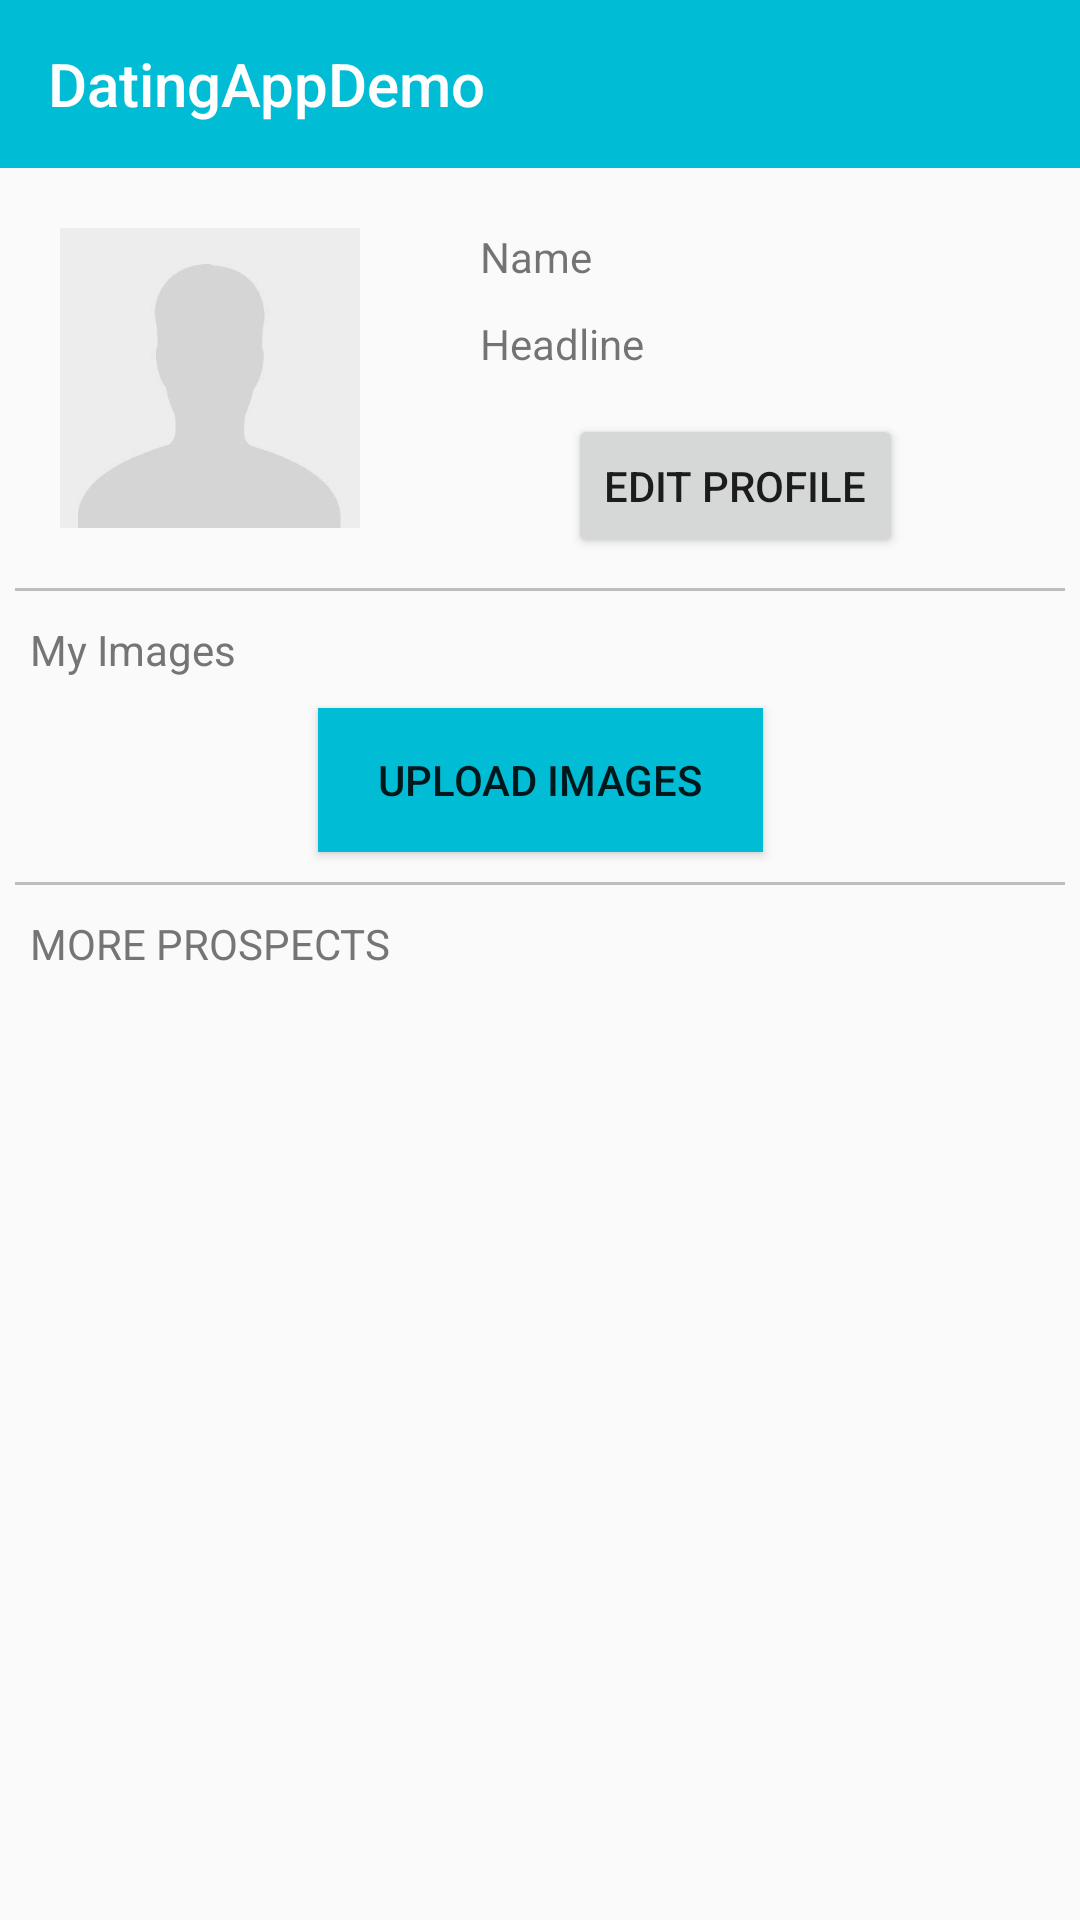

Icon click points for this 1080px×1920px phone screenshot, format (x,y):
person: (210,378)
